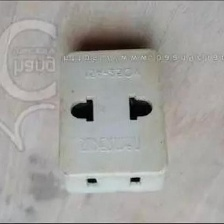three_eye_plug: (52, 41, 171, 198)
